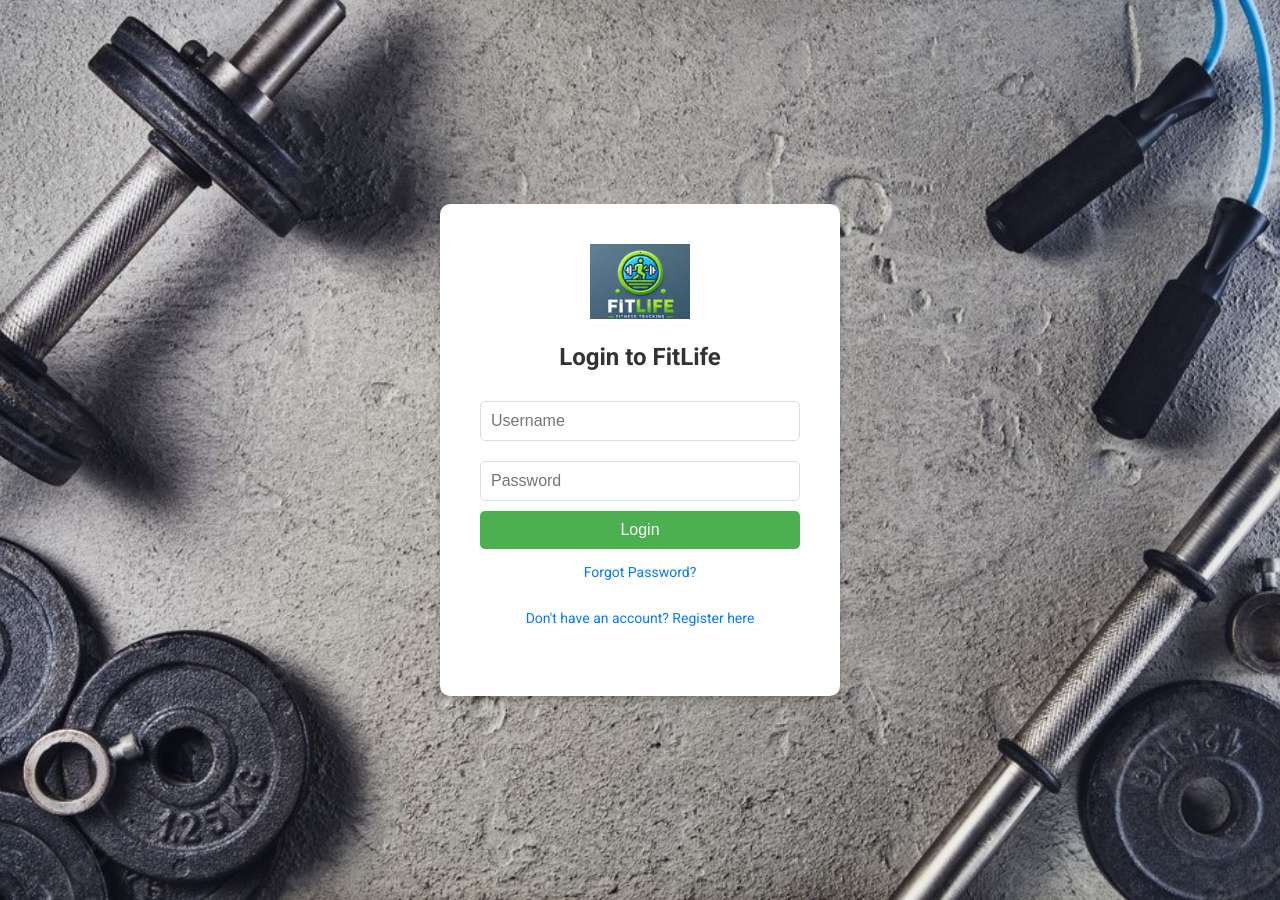
Test: Login Component › handles forgot password flow
// Click on forgot password link
Click the text "Forgot Password?".
click(640, 572)  # box [584,564,696,580]
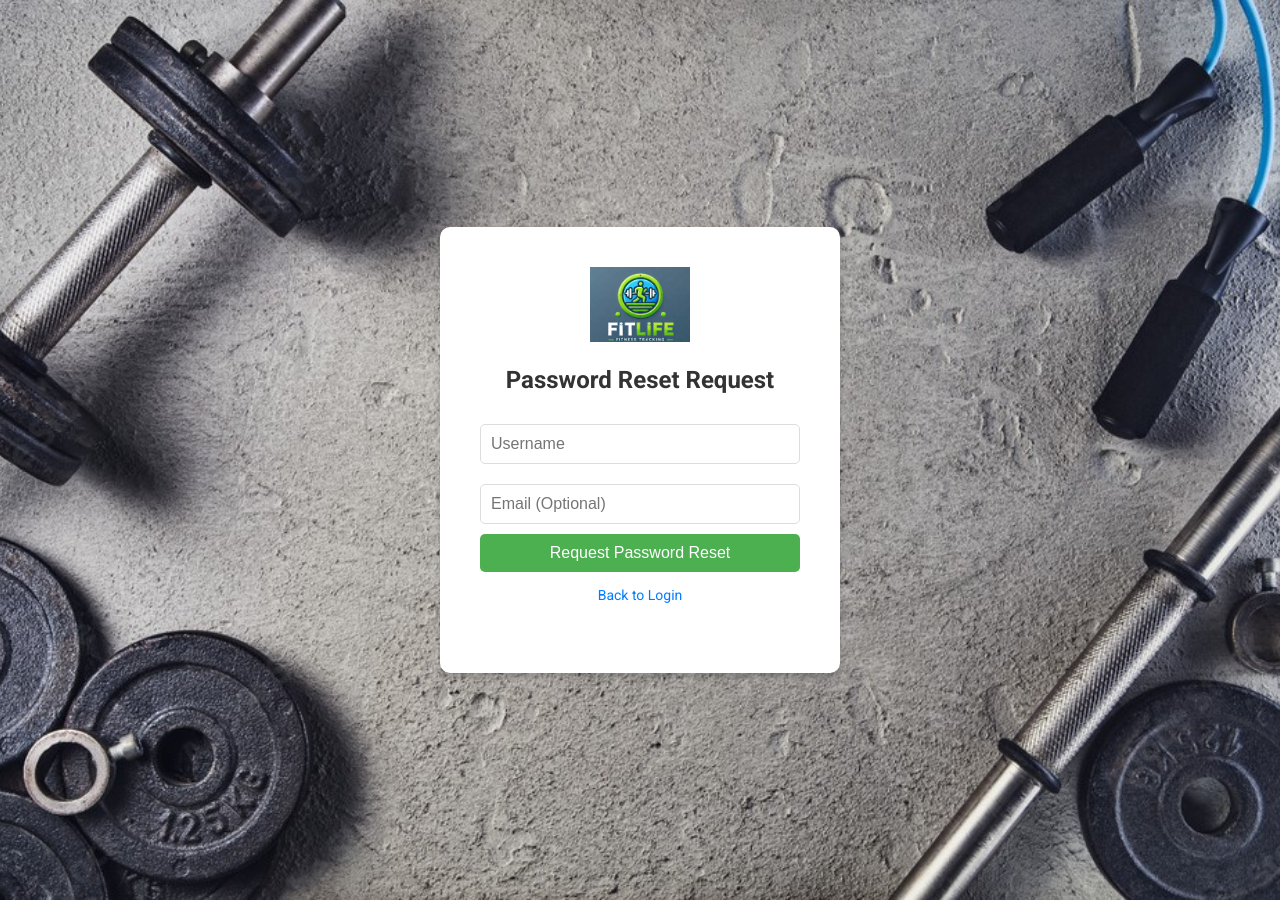
Check: the button "Request Password Reset" is shown, box [480,534,800,572]
Check: the text "Back to Login" is shown, box [598,587,682,603]
